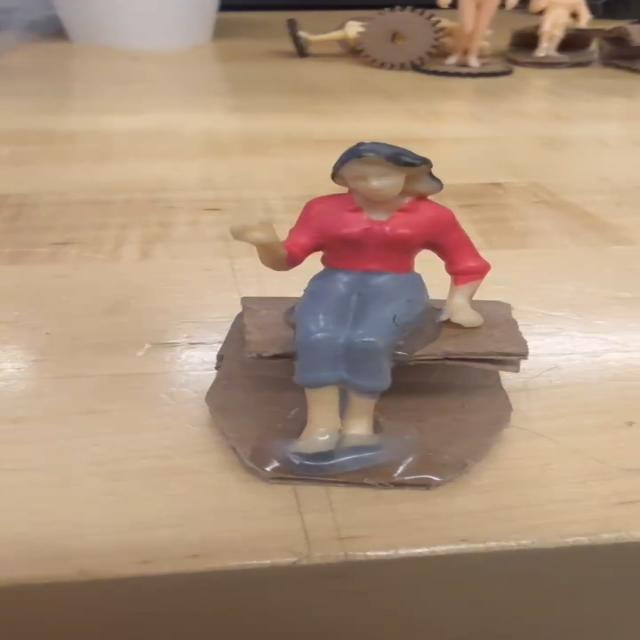Authorized: (209, 129, 489, 500)
